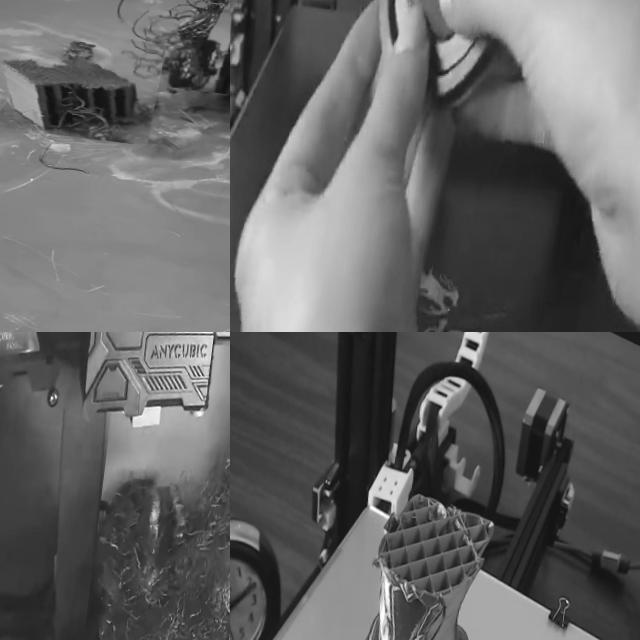spaghetti: (65, 431, 230, 640), (0, 14, 167, 146), (139, 0, 230, 105)
